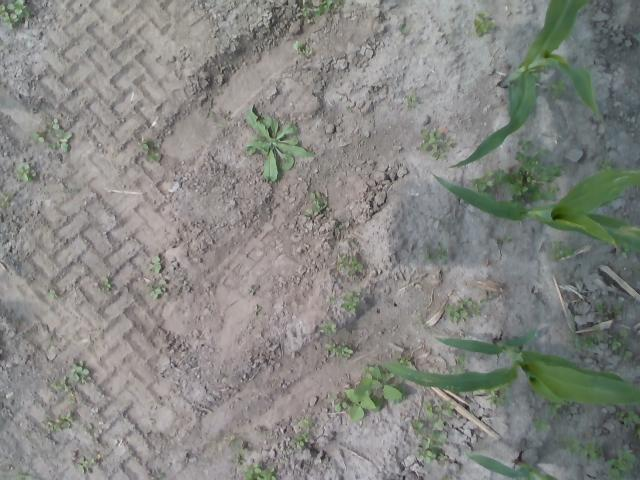Maize: (447, 0, 602, 171), (377, 326, 640, 407), (431, 168, 640, 255), (464, 450, 560, 480)
Weeds: (243, 104, 314, 182), (494, 140, 566, 210), (345, 365, 407, 423), (410, 401, 455, 462), (50, 363, 90, 403), (29, 118, 71, 154), (556, 434, 604, 462), (486, 374, 520, 408), (419, 128, 453, 160), (604, 447, 636, 480), (566, 324, 604, 351), (301, 0, 345, 23), (444, 298, 481, 322), (607, 328, 633, 361), (0, 0, 29, 29), (334, 254, 364, 278), (42, 412, 74, 433), (472, 11, 498, 36), (240, 462, 276, 480), (590, 300, 622, 320), (138, 137, 162, 163), (305, 190, 328, 216), (422, 241, 448, 262), (548, 241, 574, 262), (546, 398, 576, 416), (341, 286, 361, 312), (326, 342, 353, 361), (547, 77, 567, 100), (232, 438, 248, 466), (146, 280, 168, 300), (14, 162, 36, 182), (472, 170, 492, 192), (613, 408, 640, 424), (449, 354, 467, 376), (289, 432, 309, 450), (330, 392, 348, 412), (532, 414, 550, 433), (292, 40, 312, 57), (318, 320, 337, 336), (147, 256, 163, 274), (0, 192, 15, 210), (75, 456, 89, 474), (297, 414, 314, 428), (598, 156, 612, 172), (396, 355, 412, 368), (403, 93, 417, 107), (205, 102, 215, 118), (102, 277, 112, 292), (44, 288, 57, 299), (13, 473, 33, 480), (502, 234, 514, 244), (148, 473, 164, 480), (480, 295, 492, 303), (631, 265, 640, 275), (399, 26, 408, 34), (326, 461, 333, 468), (636, 427, 640, 439), (441, 475, 450, 480), (87, 423, 93, 430), (255, 305, 261, 312), (636, 32, 640, 42), (346, 106, 352, 112), (328, 296, 334, 302)
